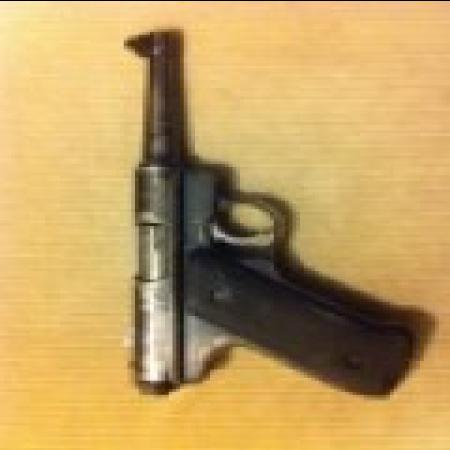Pistol: (120, 20, 416, 408)
